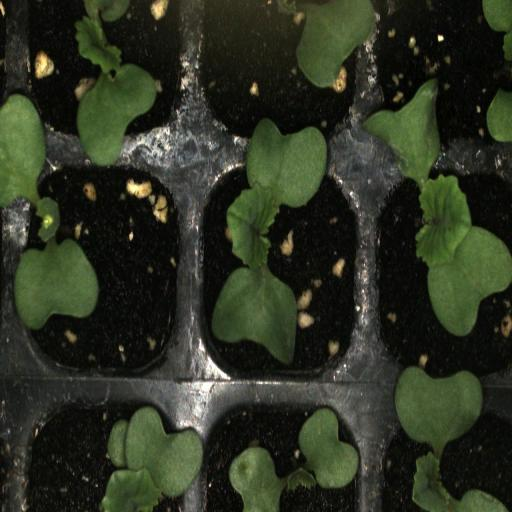seedling: (8, 152, 195, 380), (191, 156, 368, 380), (371, 159, 512, 390), (10, 0, 195, 154), (371, 384, 512, 512)
